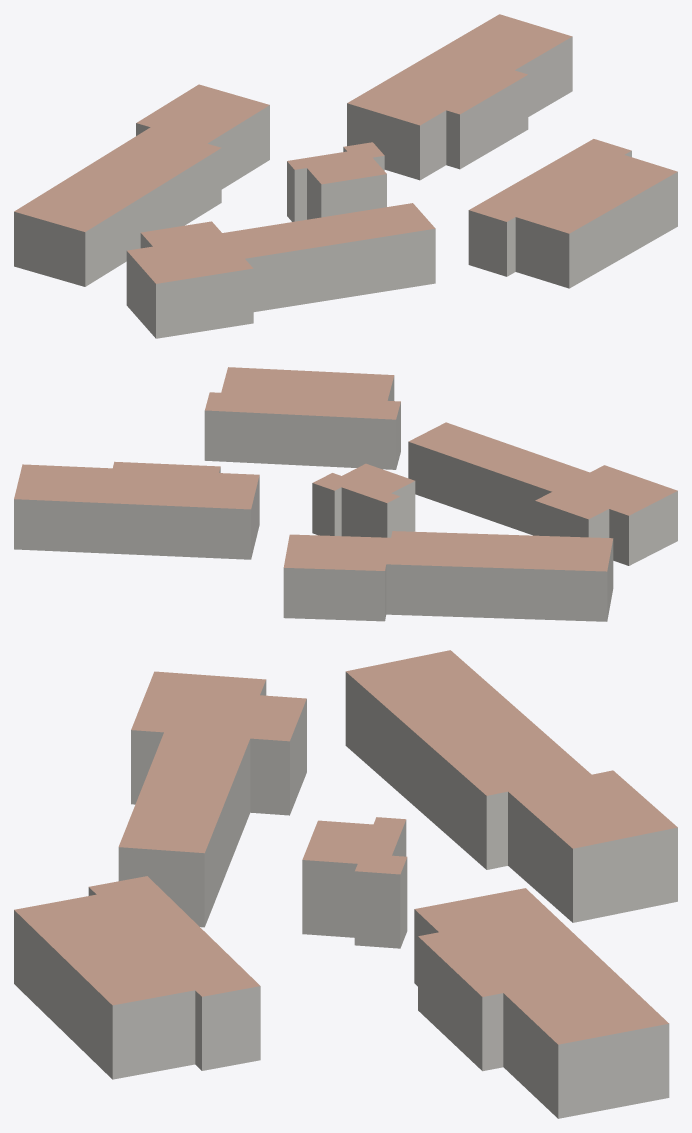
The model's file is gridID_117.dae.
3 views of the same model, one above another, from view 1: azimuth 30°, elevation 25°; view 2: azimuth 150°, elevation 25°; view 3: azimuth 270°, elevation 25° (orthographic). The views are drawn at different scales.
Visible parts, largest first — view 1: model_gridID_117_w169930643, model_gridID_117_w169922749, model_gridID_117_w169930655, model_gridID_117_w169922747, model_gridID_117_w169922749_001; view 2: model_gridID_117_w169922749, model_gridID_117_w169930655, model_gridID_117_w169930643, model_gridID_117_w169922747, model_gridID_117_w169922749_001; view 3: model_gridID_117_w169922749, model_gridID_117_w169930655, model_gridID_117_w169922747, model_gridID_117_w169930643, model_gridID_117_w169922749_001.
Boxes of the visible parts, x1,y1,x2,y2 form: model_gridID_117_w169930643: [126, 203, 435, 338]; model_gridID_117_w169922749: [14, 84, 269, 286]; model_gridID_117_w169930655: [347, 14, 572, 180]; model_gridID_117_w169922747: [468, 139, 677, 288]; model_gridID_117_w169922749_001: [287, 142, 386, 221]; model_gridID_117_w169922749: [283, 531, 613, 621]; model_gridID_117_w169930655: [14, 461, 259, 559]; model_gridID_117_w169930643: [408, 422, 677, 565]; model_gridID_117_w169922747: [204, 367, 400, 469]; model_gridID_117_w169922749_001: [312, 463, 415, 537]; model_gridID_117_w169922749: [345, 650, 677, 922]; model_gridID_117_w169930655: [414, 888, 669, 1118]; model_gridID_117_w169922747: [14, 876, 260, 1079]; model_gridID_117_w169930643: [118, 671, 306, 927]; model_gridID_117_w169922749_001: [302, 817, 407, 948].
Bounding box in the file's own units: 85.54 × 60.83 × 7.5.
